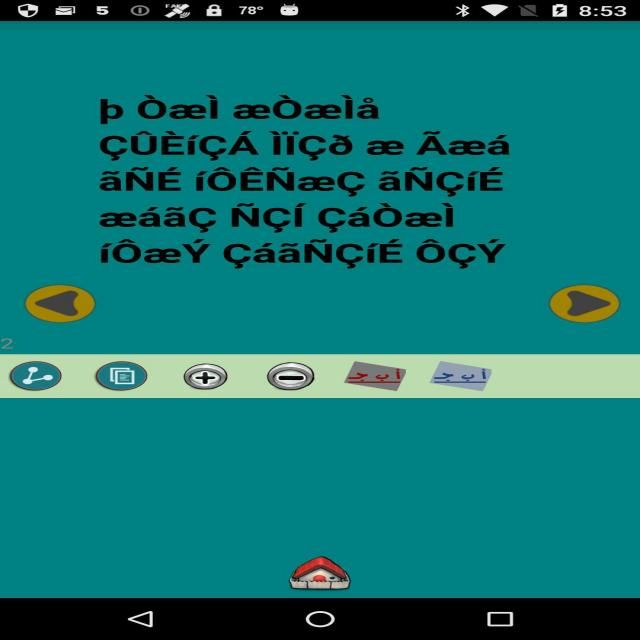button: (11, 354, 507, 395), (282, 550, 378, 595)
icon: (543, 275, 627, 327), (24, 279, 100, 327)
text: (86, 89, 515, 272)
